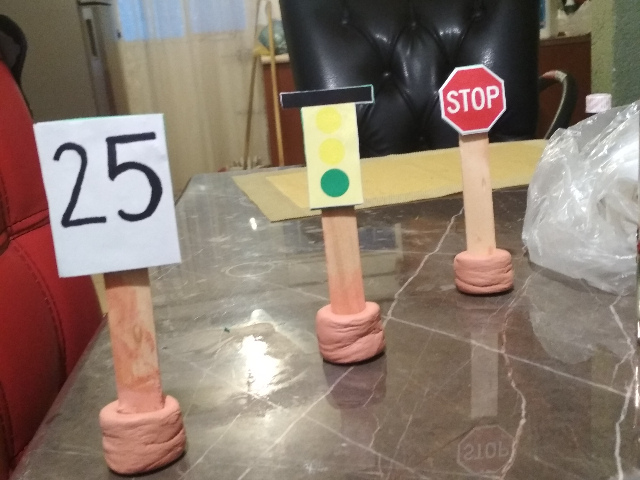Green: (278, 81, 375, 211)
Limit 25: (28, 110, 186, 280)
Stop: (437, 61, 507, 135)
